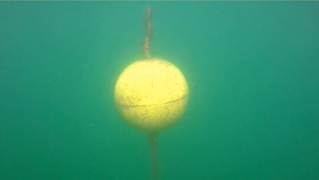buoy: (113, 57, 190, 132)
